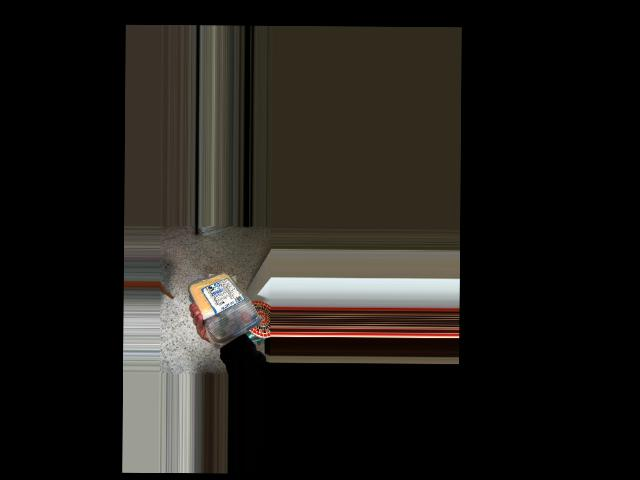cheese: (197, 269, 259, 339)
